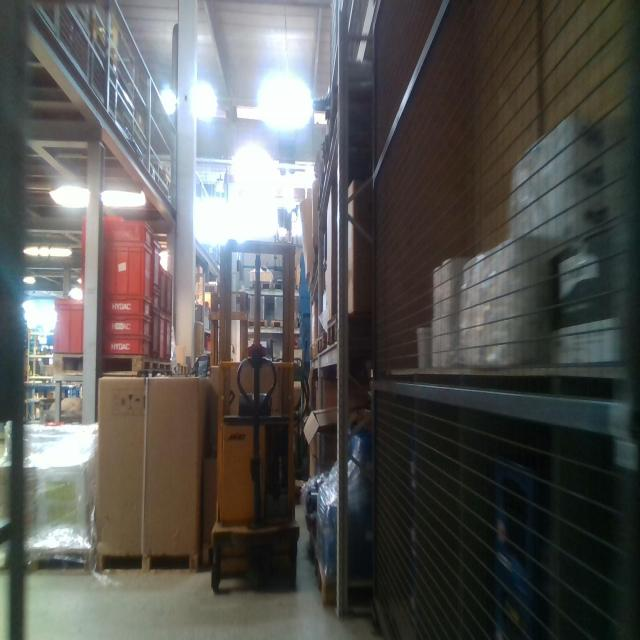pallet: (95, 548, 200, 578), (316, 552, 373, 603), (52, 352, 159, 377), (26, 546, 94, 575), (327, 312, 374, 351), (315, 328, 326, 358), (247, 317, 268, 329), (251, 280, 272, 292), (158, 360, 172, 374), (270, 319, 285, 330), (271, 280, 284, 292)
pallet_truck: (215, 230, 301, 593)
